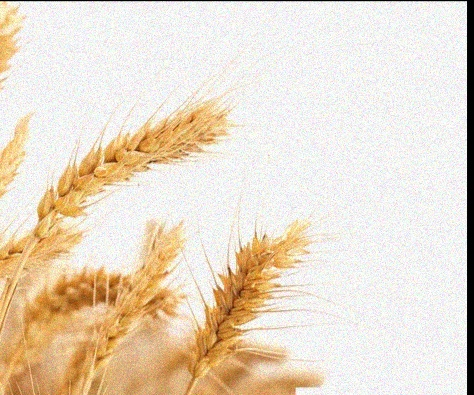wheat: (26, 87, 239, 248), (188, 217, 310, 388)
